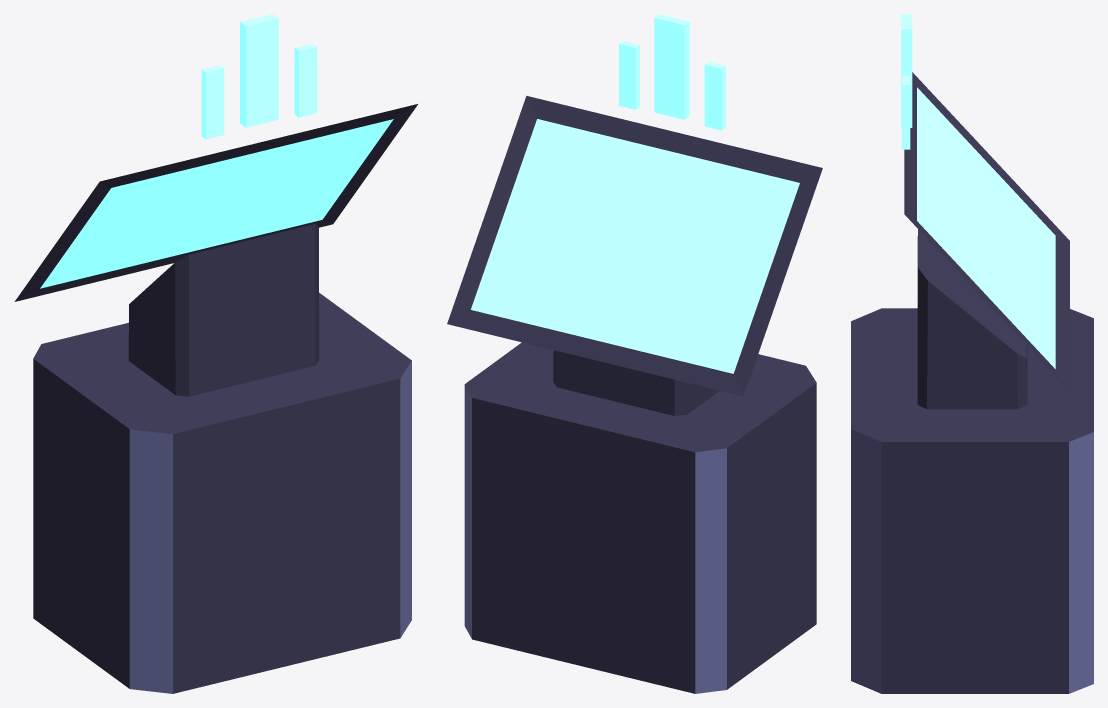
File: Level 3.fbx
3 renders of one model, left to right at view 1: azimuth 30°, elevation 25°; view 2: azimuth 150°, elevation 25°; view 3: azimuth 270°, elevation 25°, orthographic. The views are drawn at different scales.
Parts seen in each view (by area): view 1: Cube, Cube.001, Cube.002, Cube.003, Cube.004; view 2: Cube, Cube.001, Cube.002, Cube.003, Cube.004; view 3: Cube, Cube.001, Cube.002, Cube.004.
Boxes of the visible parts, x1=… form: Cube: x1=33, y1=224, x2=411, y2=693; Cube.001: x1=14, y1=104, x2=417, y2=301; Cube.002: x1=240, y1=14, x2=278, y2=127; Cube.003: x1=201, y1=65, x2=224, y2=139; Cube.004: x1=294, y1=43, x2=317, y2=117; Cube: x1=464, y1=342, x2=816, y2=693; Cube.001: x1=447, y1=95, x2=822, y2=396; Cube.002: x1=654, y1=14, x2=689, y2=119; Cube.003: x1=704, y1=61, x2=725, y2=130; Cube.004: x1=619, y1=41, x2=639, y2=109; Cube: x1=851, y1=229, x2=1093, y2=693; Cube.001: x1=904, y1=72, x2=1069, y2=391; Cube.002: x1=901, y1=14, x2=912, y2=127; Cube.004: x1=901, y1=76, x2=910, y2=149.
Bounding box in the file's own units: 139 × 261 × 94.65.
